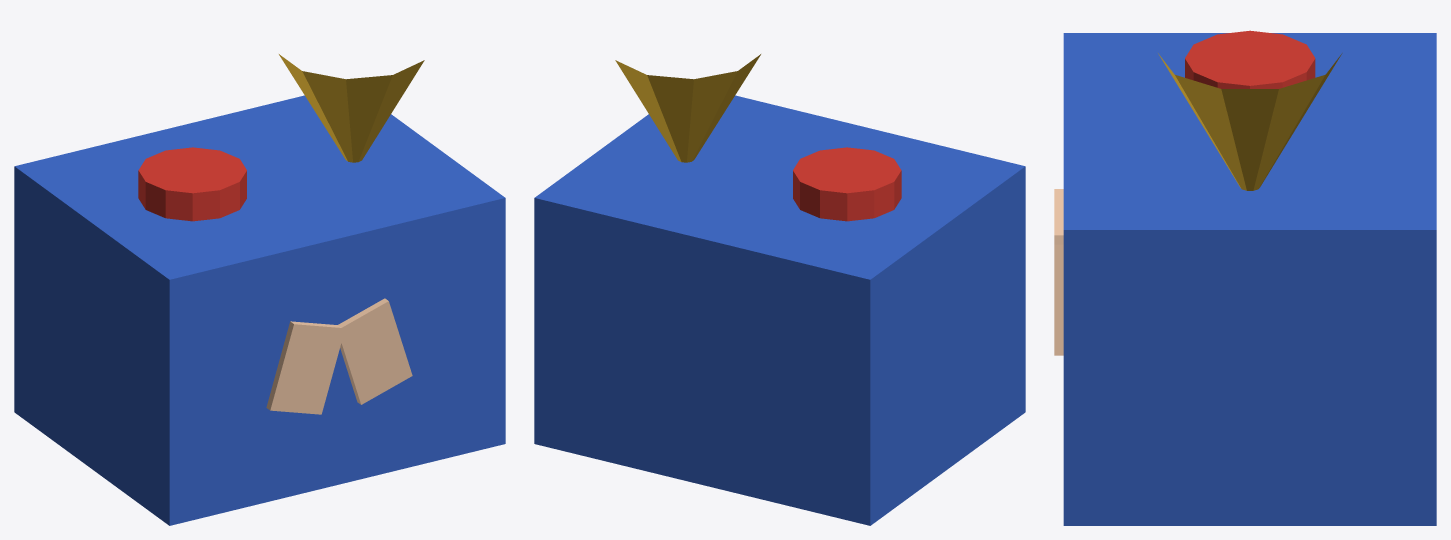
The model's file is karaoke_applause_machine.glb.
3 renders of one model, left to right at view 1: azimuth 30°, elevation 25°; view 2: azimuth 150°, elevation 25°; view 3: azimuth 270°, elevation 25°, orthographic. The views are drawn at different scales.
Visible parts, largest first — view 1: box_applause_box, hands_applause_hands, button_applause_red, horn_applause_brass; view 2: box_applause_box, button_applause_red, horn_applause_brass; view 3: box_applause_box, horn_applause_brass, button_applause_red, hands_applause_hands.
Boxes of the visible parts, x1=… form: box_applause_box: x1=14, y1=95, x2=505, y2=525; hands_applause_hands: x1=266, y1=298, x2=412, y2=414; button_applause_red: x1=138, y1=147, x2=246, y2=221; horn_applause_brass: x1=279, y1=54, x2=424, y2=162; box_applause_box: x1=534, y1=95, x2=1025, y2=525; button_applause_red: x1=793, y1=147, x2=901, y2=221; horn_applause_brass: x1=615, y1=54, x2=760, y2=162; box_applause_box: x1=1063, y1=33, x2=1436, y2=525; horn_applause_brass: x1=1158, y1=53, x2=1342, y2=190; button_applause_red: x1=1185, y1=30, x2=1315, y2=88; hands_applause_hands: x1=1054, y1=189, x2=1063, y2=355.
Bounding box in the file's own units: 0.5 × 0.51 × 0.41.
